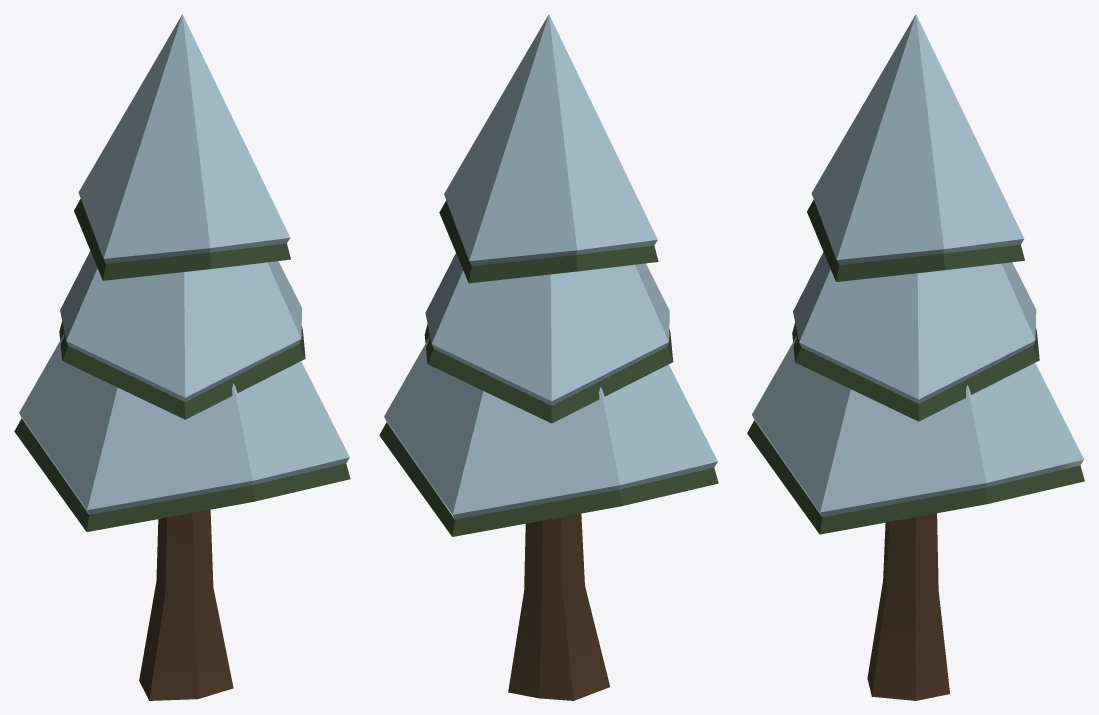
The model's file is Geo_PineMedium.fbx.
3 views of the same model, side by side, from view 1: azimuth 30°, elevation 25°; view 2: azimuth 150°, elevation 25°; view 3: azimuth 270°, elevation 25° (orthographic).
Visible parts, largest first — view 1: PineTreeMedium_Mesh; view 2: PineTreeMedium_Mesh; view 3: PineTreeMedium_Mesh.
Part boxes in pixels (left/top/right/bottom): PineTreeMedium_Mesh: left=14, top=14, right=350, bottom=700; PineTreeMedium_Mesh: left=379, top=14, right=718, bottom=700; PineTreeMedium_Mesh: left=747, top=14, right=1084, bottom=700.
Size of the model in its own units: 271 by 653 by 299.
